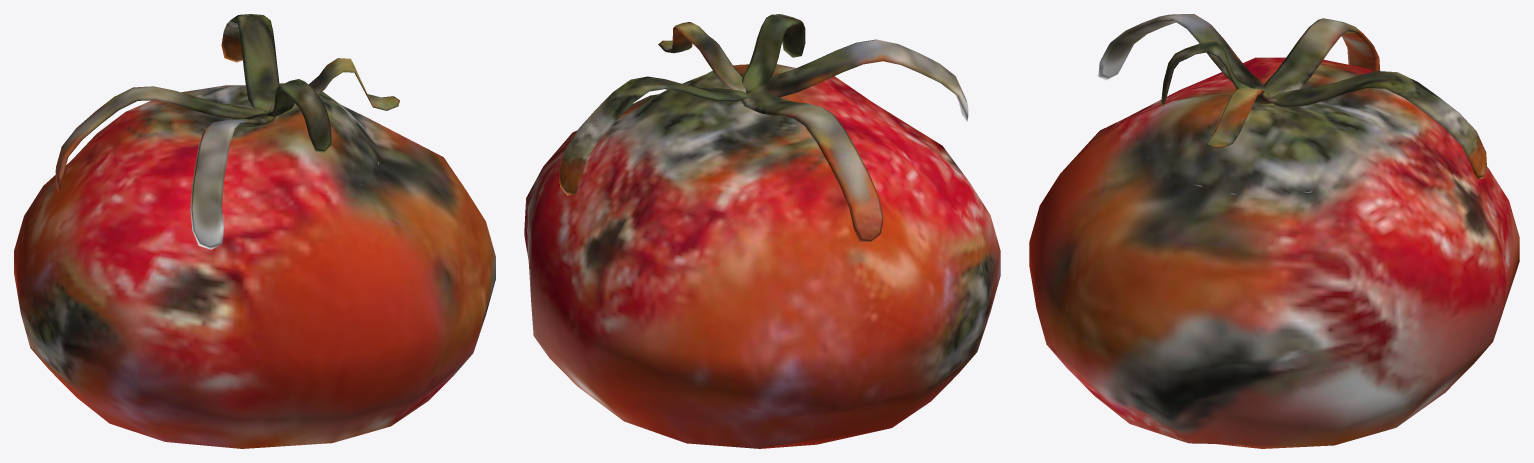
The model's file is pickup_tomato.fbx.
3 renders of one model, left to right at view 1: azimuth 30°, elevation 25°; view 2: azimuth 150°, elevation 25°; view 3: azimuth 270°, elevation 25°, orthographic. The views are drawn at different scales.
Parts seen in each view (by area): view 1: polySurface2; view 2: polySurface2; view 3: polySurface2.
Boxes of the visible parts, x1,y1,x2,y2 form: polySurface2: (14, 14, 495, 448); polySurface2: (524, 14, 1000, 448); polySurface2: (1029, 14, 1519, 448).
Size of the model in its own units: 26.23 by 20.65 by 25.56.
1 material, 1 textured.
